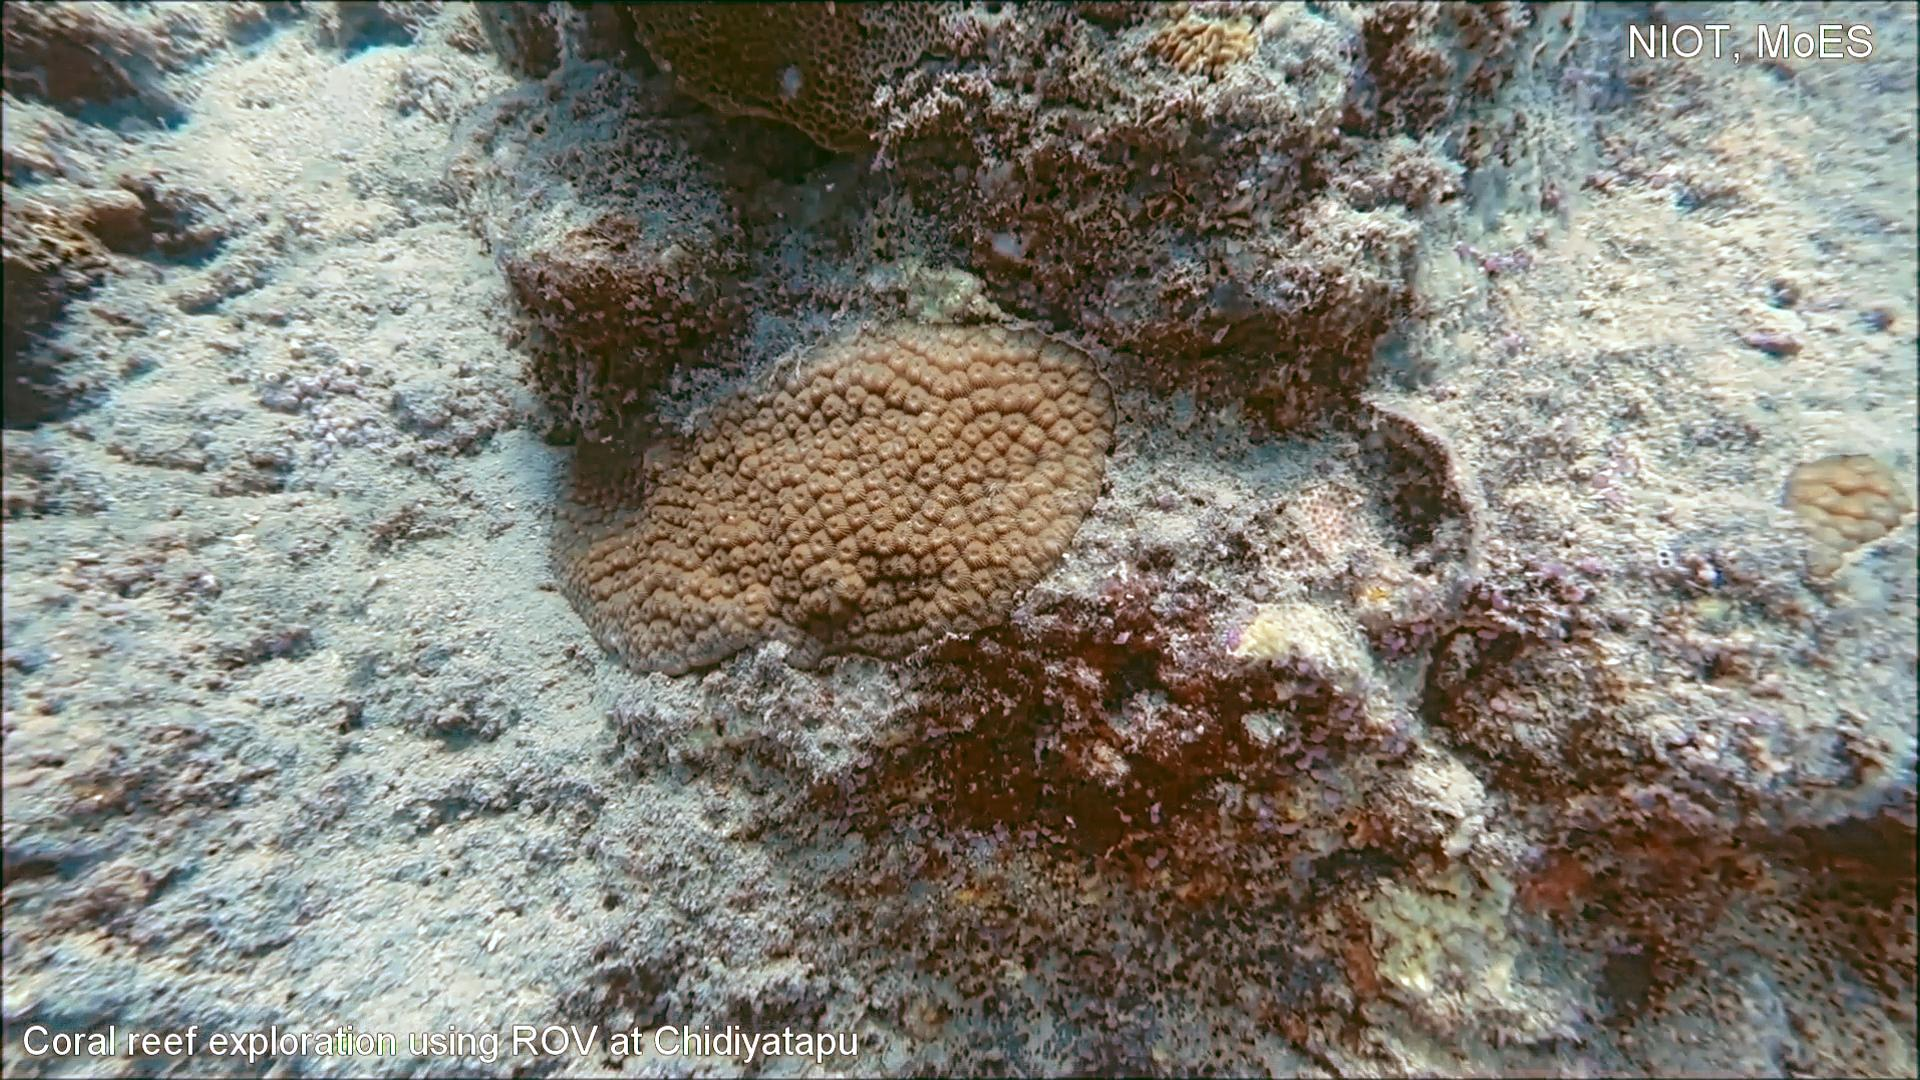Montastraea: (538, 306, 1125, 684), (1772, 442, 1919, 592)
